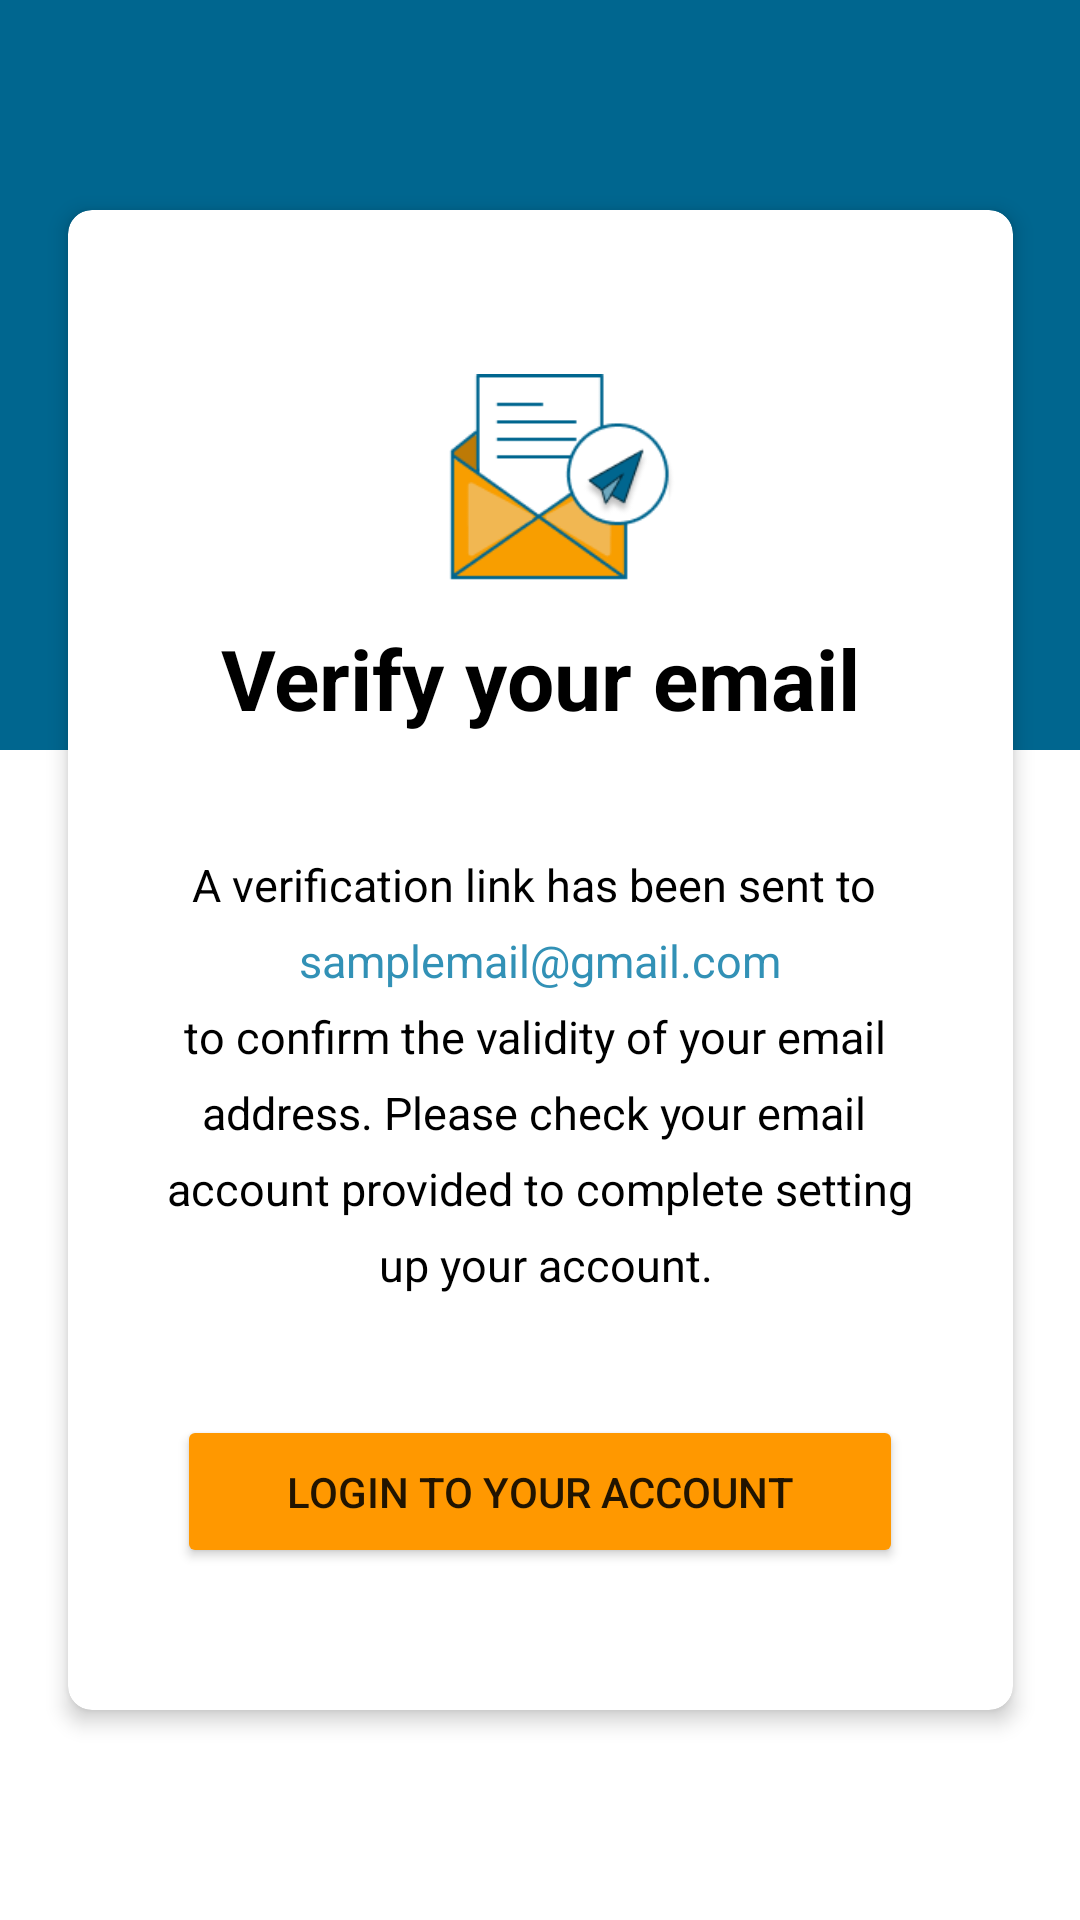

Icon click points for this 1080 × 1920 phone screenshot, format (x=x, y=y):
email verification: (x=559, y=477)
